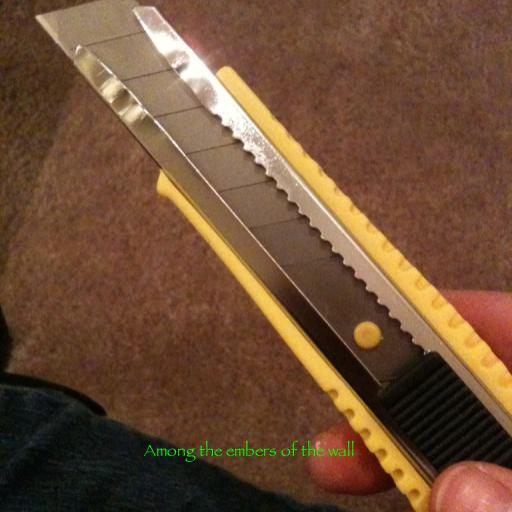Papyrus: (143, 440, 355, 462)
